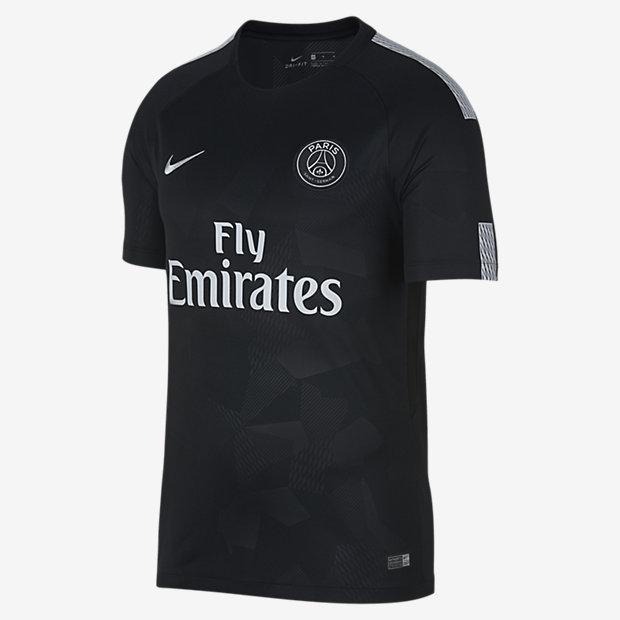teeshirt: (100, 15, 530, 620)
